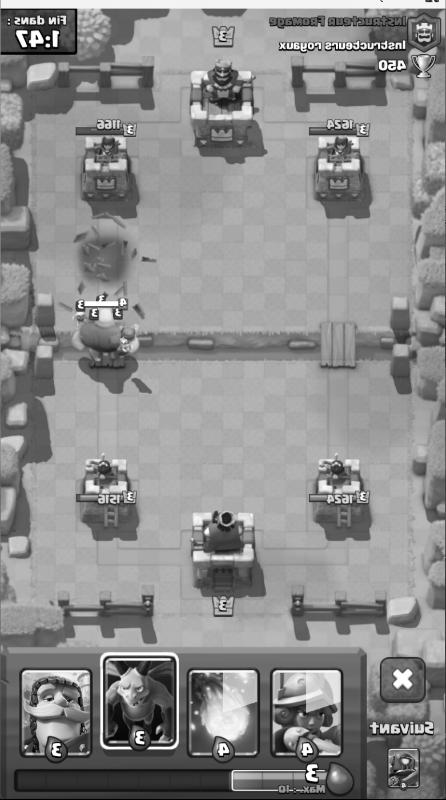geant: (74, 305, 130, 377)
squelette: (75, 291, 90, 334), (84, 318, 101, 355), (91, 291, 107, 330)
